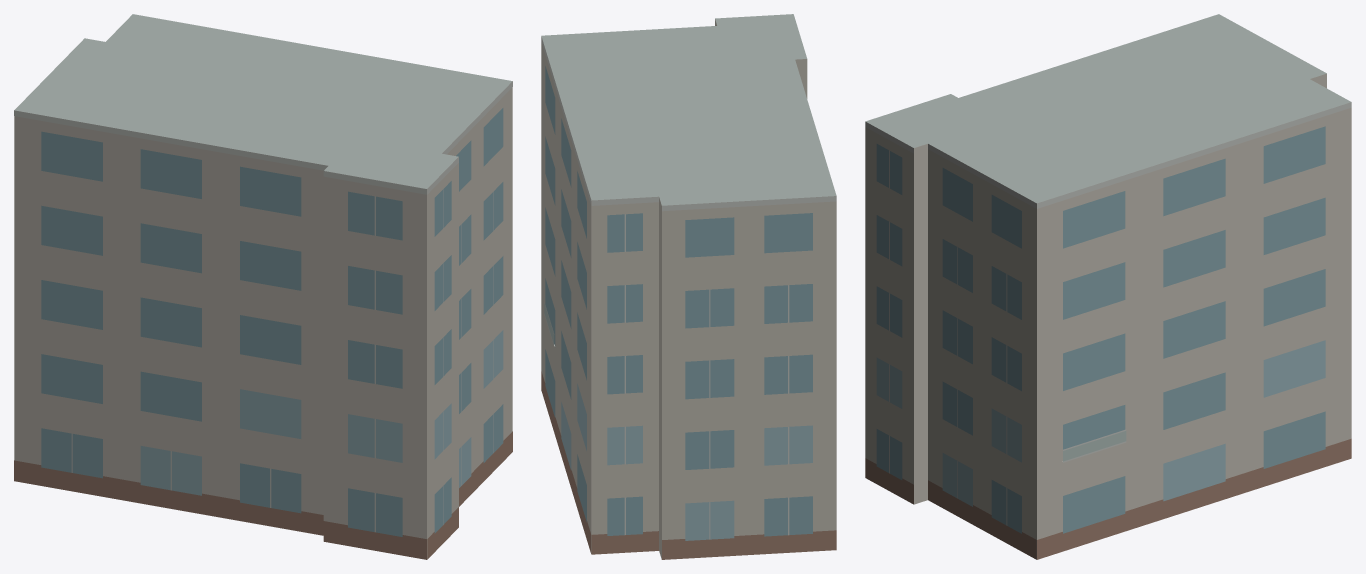
Rendered from survey-upis-33046517.glb.
The picture shows the model from 3 angles, left to right: view 1: azimuth 30°, elevation 25°; view 2: azimuth 150°, elevation 25°; view 3: azimuth 270°, elevation 25°; orthographic projection. The views are drawn at different scales.
Parts seen in each view (by area): view 1: survey-upis-33046517.tmp; view 2: survey-upis-33046517.tmp; view 3: survey-upis-33046517.tmp.
Boxes of the visible parts, x1,y1,x2,y2 form: survey-upis-33046517.tmp: (14, 14, 512, 559); survey-upis-33046517.tmp: (541, 14, 836, 559); survey-upis-33046517.tmp: (865, 14, 1351, 559).
Bounding box in the file's own units: 18.02 × 15.8 × 19.55.
